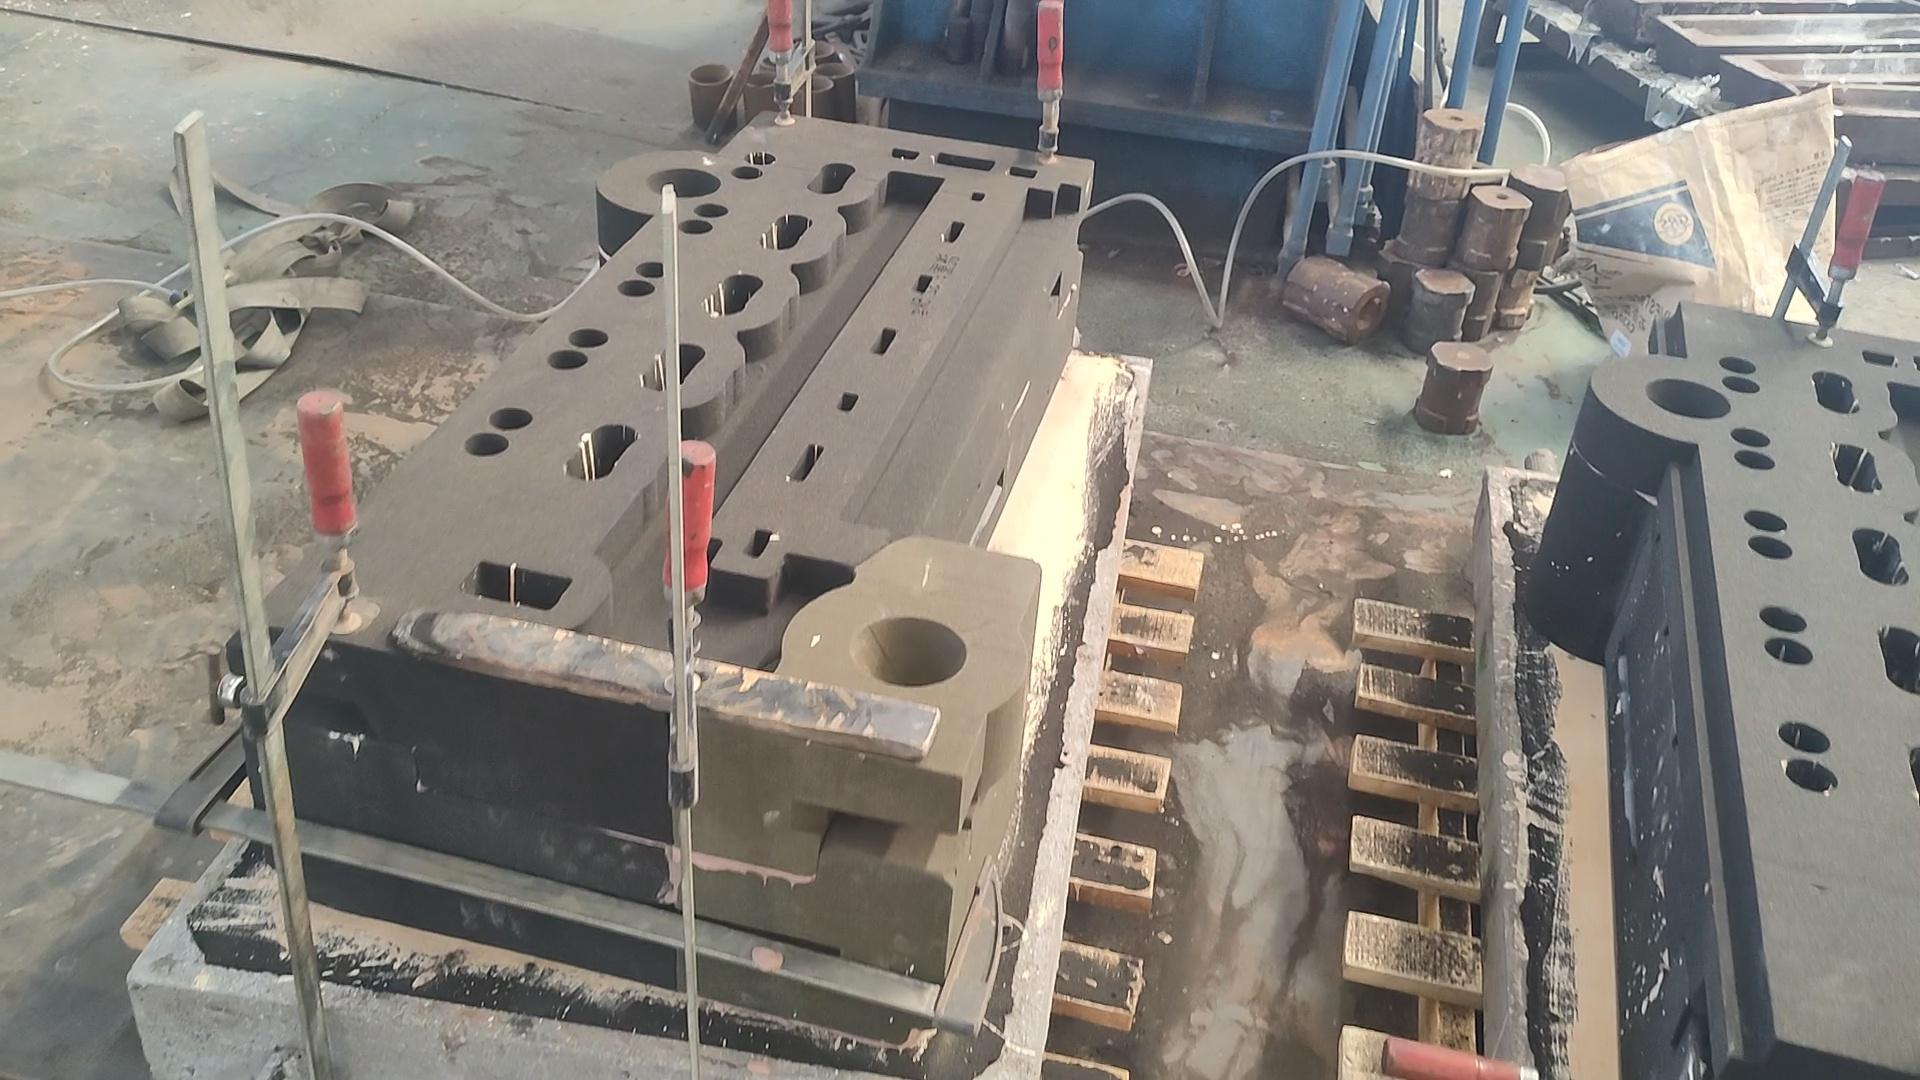pouring hole: (847, 618, 967, 686), (1644, 375, 1733, 419), (645, 167, 721, 198), (688, 65, 733, 84), (811, 62, 856, 78), (789, 41, 833, 57), (794, 76, 833, 94), (740, 71, 781, 86), (760, 54, 799, 69)
